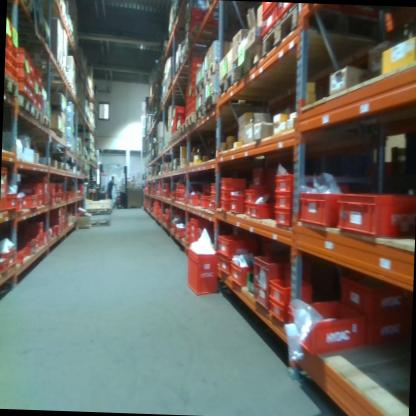pallet: (261, 3, 406, 66), (237, 42, 261, 84), (218, 64, 240, 99), (20, 31, 52, 54), (5, 94, 34, 118), (30, 56, 62, 75), (21, 103, 44, 125), (4, 73, 20, 104), (205, 59, 221, 86), (80, 218, 111, 231), (204, 91, 219, 116), (85, 206, 112, 217), (35, 114, 52, 131), (195, 74, 205, 96), (196, 102, 206, 123), (185, 111, 195, 130), (180, 121, 186, 136)
pallet_truck: (112, 161, 132, 210), (89, 159, 107, 200)
small_load_carrier: (286, 291, 369, 358), (336, 186, 416, 242), (252, 248, 314, 310), (338, 272, 409, 315), (183, 246, 220, 299), (364, 315, 409, 354), (300, 186, 341, 227), (263, 273, 315, 305), (216, 229, 267, 258), (253, 167, 284, 212), (265, 298, 314, 325), (231, 256, 257, 292), (261, 2, 279, 38), (272, 171, 296, 192), (0, 241, 16, 272), (0, 164, 10, 213), (277, 3, 302, 22), (227, 190, 245, 216), (189, 217, 204, 246), (273, 209, 294, 228), (25, 218, 46, 236), (19, 182, 47, 195), (274, 192, 295, 209), (218, 250, 231, 276), (17, 49, 31, 69), (252, 206, 277, 217), (23, 192, 37, 211), (43, 176, 51, 209), (245, 188, 263, 202), (19, 239, 28, 266), (185, 191, 199, 207), (11, 25, 20, 49), (0, 255, 10, 276), (6, 191, 17, 210), (16, 81, 27, 100), (174, 224, 186, 240), (36, 69, 45, 89), (241, 204, 252, 220), (6, 18, 13, 43), (16, 194, 25, 213), (218, 190, 232, 202), (29, 236, 36, 260), (190, 60, 205, 71), (218, 200, 229, 214), (209, 181, 219, 196), (220, 181, 233, 192), (17, 68, 30, 79), (37, 234, 45, 250), (199, 196, 208, 210), (173, 104, 184, 115), (36, 195, 44, 209), (50, 194, 57, 210), (190, 8, 202, 16), (190, 75, 198, 85), (50, 183, 57, 194), (56, 192, 63, 203), (35, 232, 39, 251), (210, 195, 218, 204), (209, 204, 217, 213), (190, 67, 198, 76), (189, 84, 197, 92), (188, 99, 196, 107), (56, 183, 63, 192), (188, 92, 196, 99), (189, 107, 195, 116), (187, 220, 192, 229), (187, 236, 192, 243), (187, 231, 192, 236)
